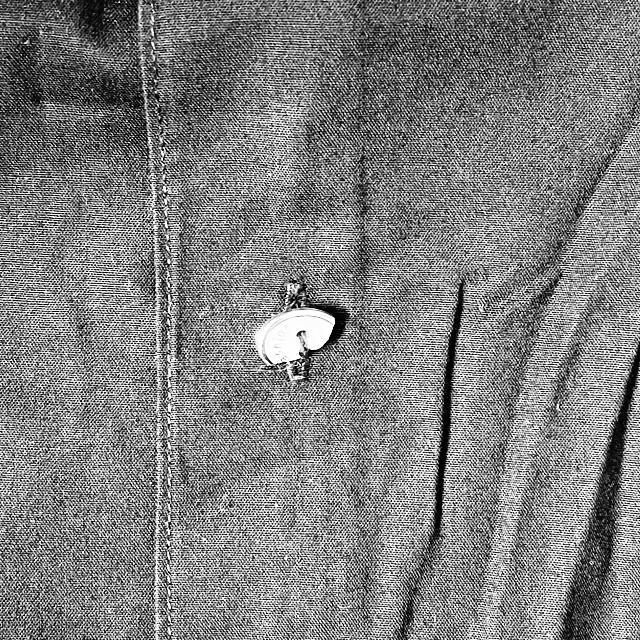Broken_button: (244, 286, 354, 388)
